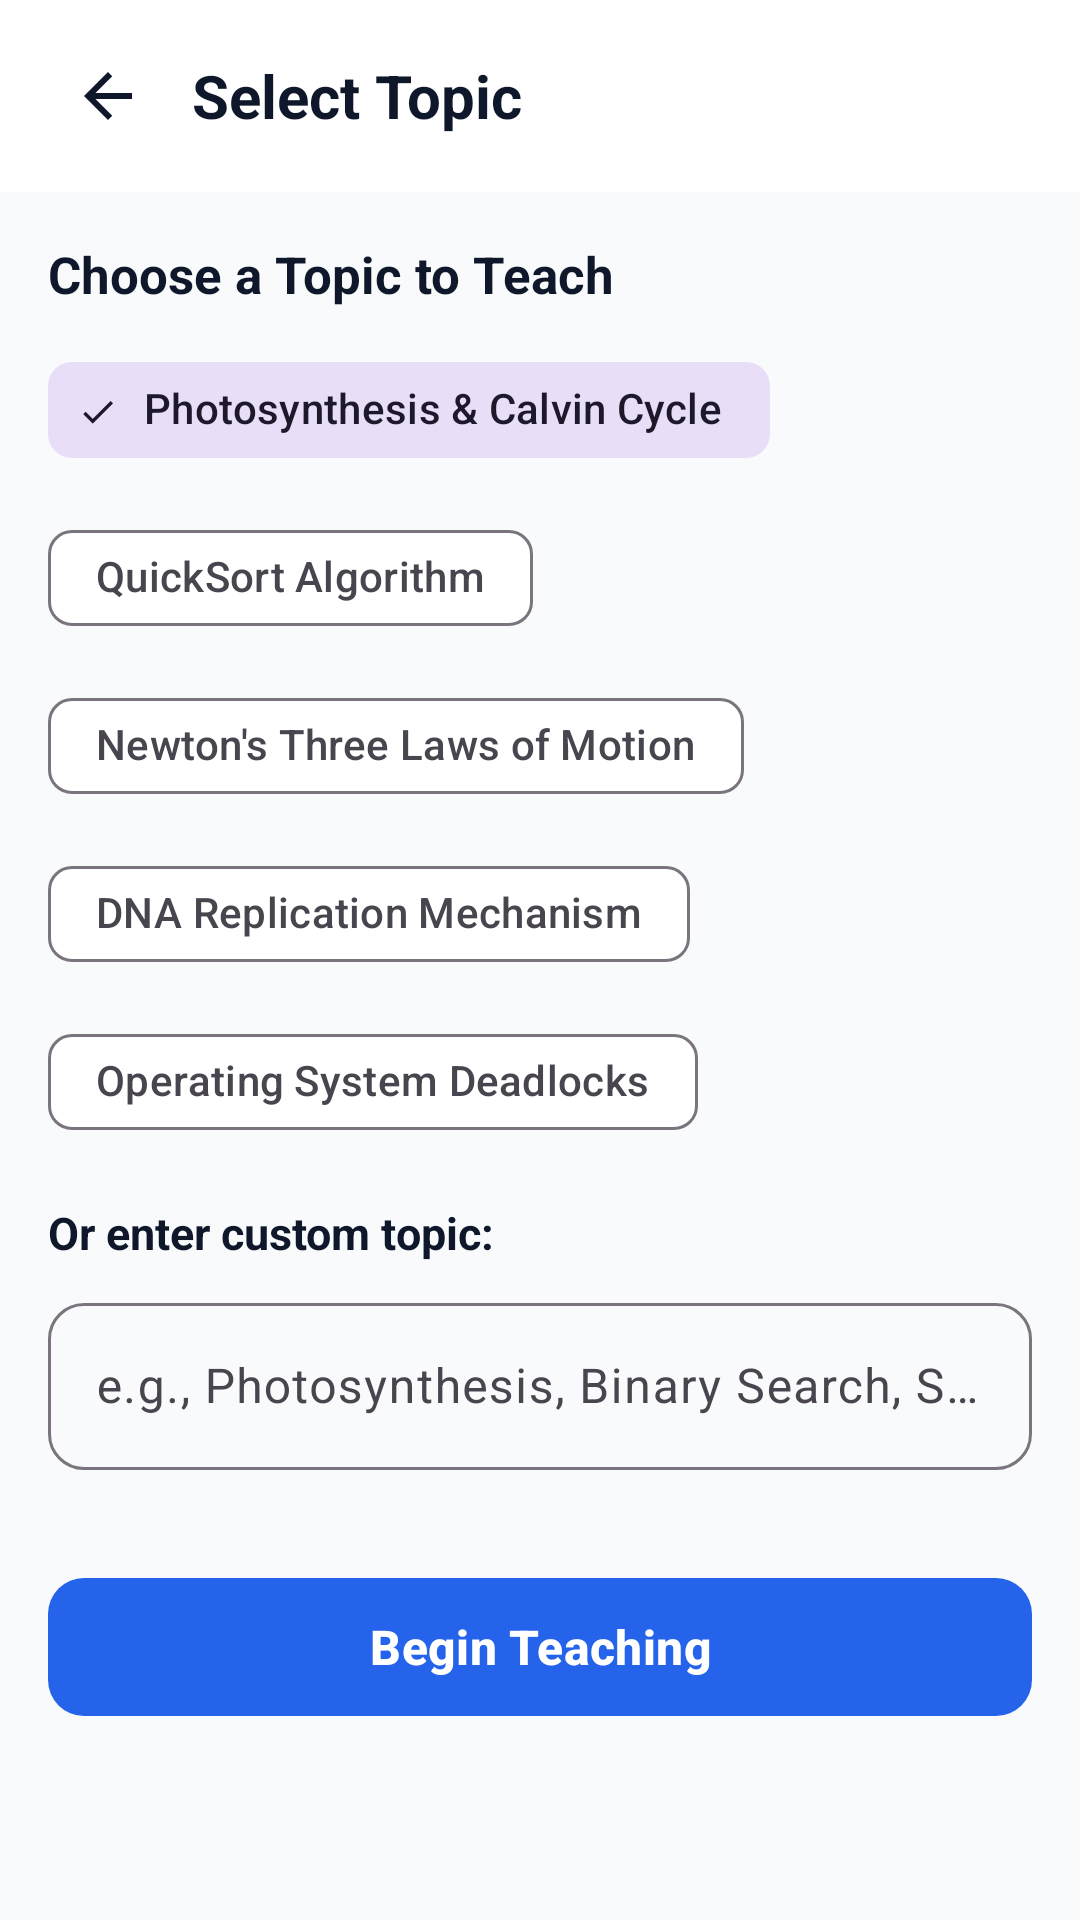

Locate icon controls on the screen. Image size 1080x1920, boxes as bbox=[x1, y1, x2, y2].
Back: bbox=[84, 72, 132, 120]
